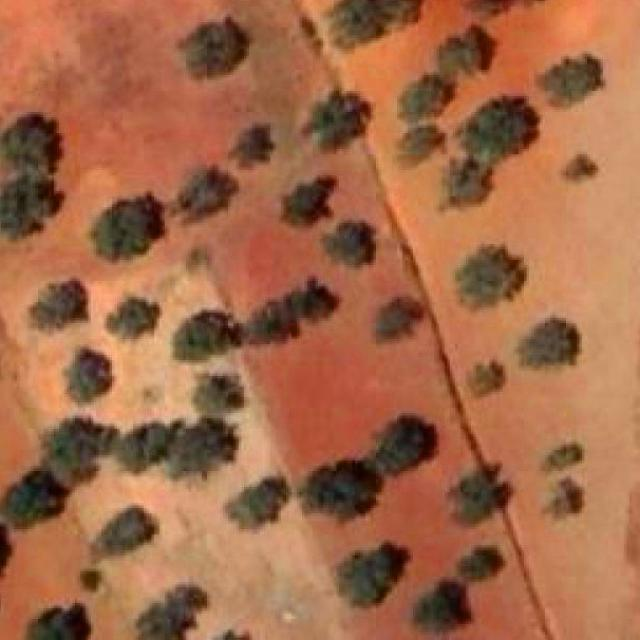Tree: (251, 279, 339, 345), (459, 96, 540, 165), (41, 418, 117, 490), (298, 460, 381, 520), (326, 0, 424, 49), (93, 193, 162, 262), (455, 246, 527, 310), (0, 166, 63, 233), (339, 543, 404, 607), (168, 418, 235, 480), (306, 91, 371, 151), (0, 471, 67, 529), (137, 585, 207, 640), (182, 17, 246, 77), (371, 416, 434, 476), (450, 466, 511, 526), (115, 420, 184, 473), (172, 313, 244, 362), (0, 115, 63, 169), (535, 57, 603, 107), (224, 476, 288, 529), (177, 168, 236, 223), (92, 506, 156, 556), (436, 28, 494, 82), (28, 281, 88, 330), (518, 318, 576, 367), (415, 580, 471, 630), (399, 75, 455, 124), (64, 349, 112, 404), (283, 179, 334, 227), (445, 157, 492, 208), (323, 221, 376, 266), (30, 605, 90, 640), (192, 376, 244, 416), (107, 297, 154, 339), (230, 125, 276, 167), (378, 297, 420, 342), (398, 126, 445, 166), (545, 480, 585, 520), (456, 548, 503, 581), (468, 360, 505, 398), (562, 152, 600, 182), (545, 448, 582, 470), (0, 520, 12, 574), (469, 0, 508, 16), (80, 570, 102, 592), (202, 631, 250, 640), (511, 0, 556, 5)
